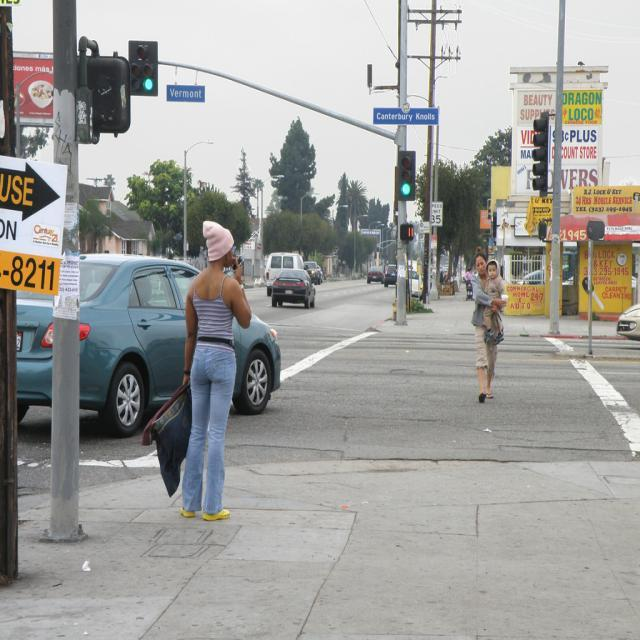off traffic light: (531, 111, 548, 198)
traffic light: (127, 42, 158, 97), (399, 149, 416, 204)
